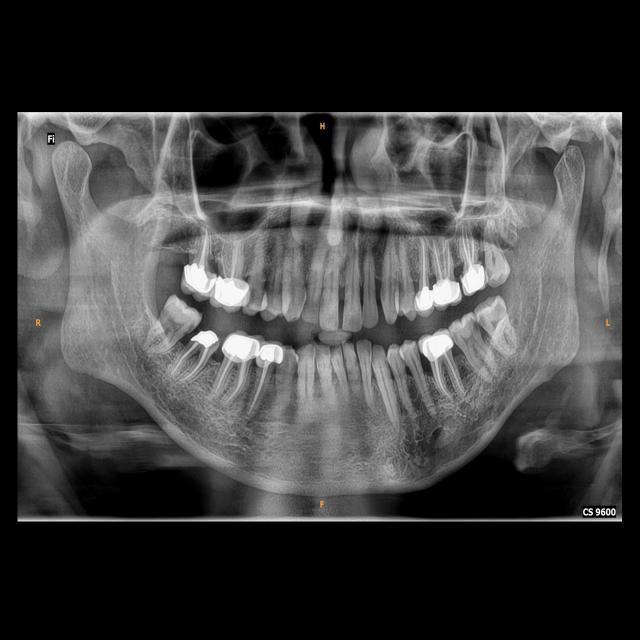dentin-curugu: (470, 316, 481, 336), (266, 274, 275, 296), (480, 314, 490, 333)
kanal-tedavisi: (218, 355, 245, 403), (433, 355, 463, 397), (174, 343, 205, 383), (250, 366, 271, 416), (432, 238, 454, 278), (195, 228, 212, 272), (416, 240, 430, 288), (222, 243, 240, 278), (460, 224, 476, 263)
kaplama: (222, 328, 260, 361), (184, 262, 214, 294), (212, 276, 246, 304), (420, 334, 454, 358), (432, 277, 461, 305), (256, 341, 283, 366), (461, 264, 484, 292), (193, 327, 217, 352), (413, 286, 433, 311)
